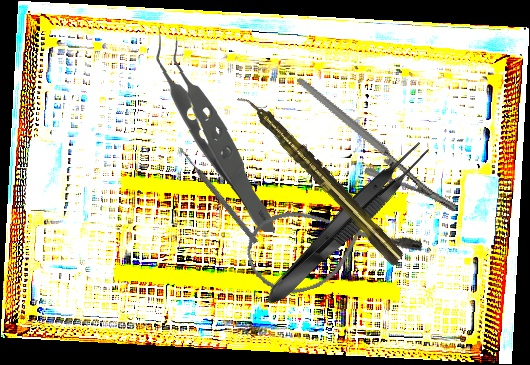Cannula: (238, 176, 426, 305)
Handpiece: (235, 86, 408, 269)
Needle Holder: (296, 41, 460, 247)
Pusher: (176, 145, 260, 245)
Tissue Forceps: (257, 134, 436, 313), (152, 27, 281, 233)
